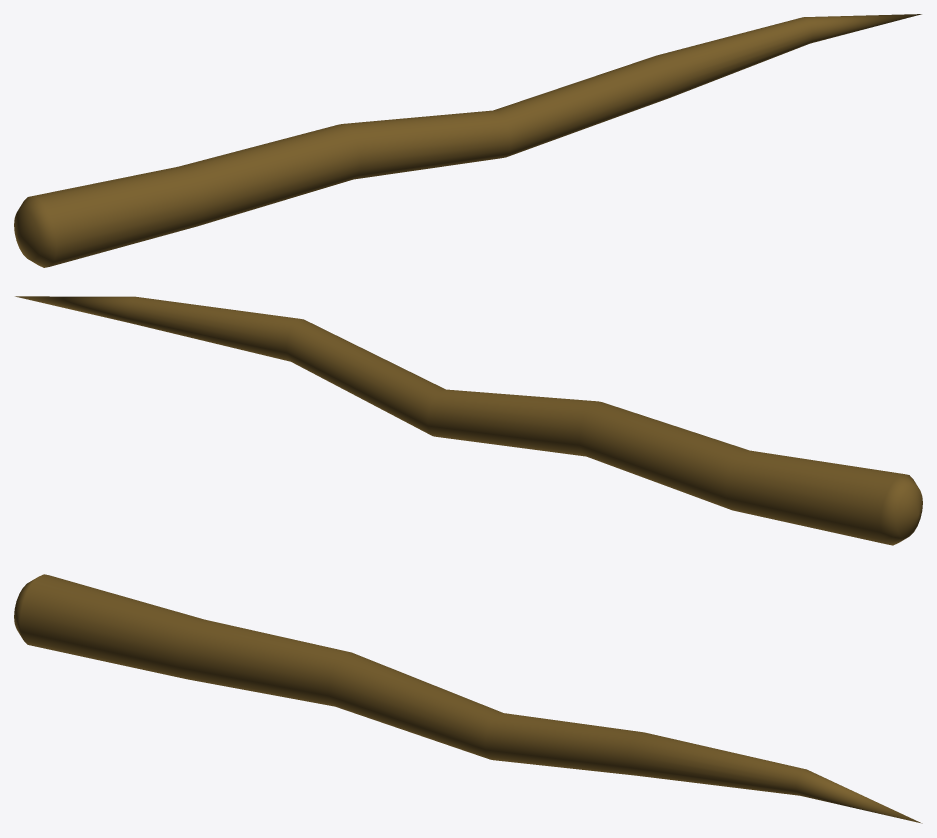
The model's file is Wand.fbx.
The picture shows the model from 3 angles, top to bottom: view 1: azimuth 30°, elevation 25°; view 2: azimuth 150°, elevation 25°; view 3: azimuth 330°, elevation 25°; orthographic projection.
Parts seen in each view (by area): view 1: Wand; view 2: Wand; view 3: Wand.
Part boxes in pixels (<box>): Wand: <box>14,14,921,267</box>; Wand: <box>15,296,922,545</box>; Wand: <box>14,574,922,823</box>.
Bounding box in the file's own units: 2.97 × 0.2207 × 0.2344.
